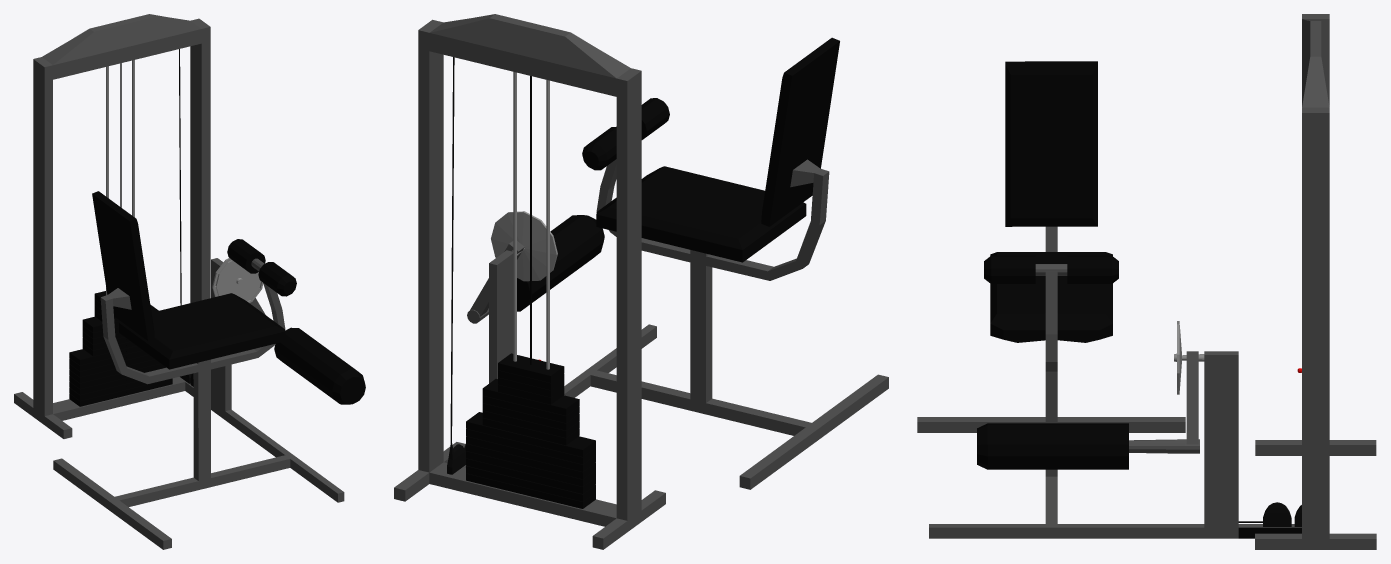
Rendered from LegCurlExtensionMachine.fbx.
The picture shows the model from 3 angles, left to right: view 1: azimuth 30°, elevation 25°; view 2: azimuth 150°, elevation 25°; view 3: azimuth 270°, elevation 25°; orthographic projection. The views are drawn at different scales.
Parts seen in each view (by area): view 1: LegCurlExtensionMachine; view 2: LegCurlExtensionMachine; view 3: LegCurlExtensionMachine.
Boxes of the visible parts, <box> form: LegCurlExtensionMachine: <box>14,14,365,549</box>; LegCurlExtensionMachine: <box>394,14,888,549</box>; LegCurlExtensionMachine: <box>917,14,1376,549</box>.
Size of the model in its own units: 108 by 165 by 149.
